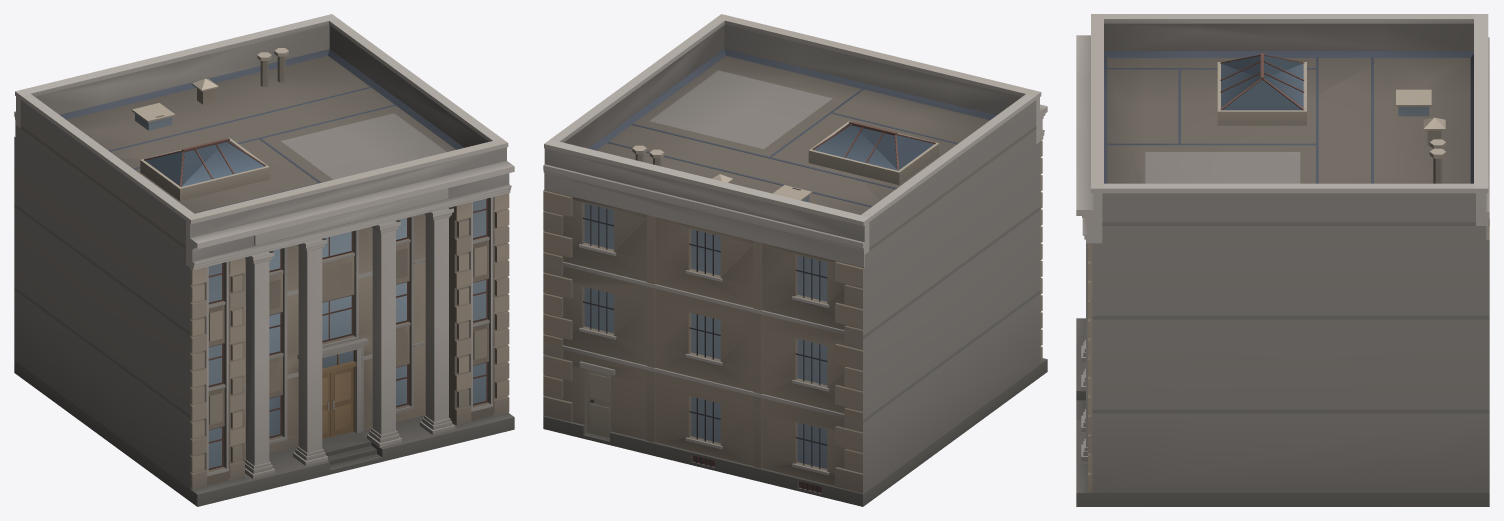
The model's file is bank.glb.
The picture shows the model from 3 angles, left to right: view 1: azimuth 30°, elevation 25°; view 2: azimuth 150°, elevation 25°; view 3: azimuth 270°, elevation 25°; orthographic projection. The views are drawn at different scales.
Parts seen in each view (by area): view 1: bank; view 2: bank; view 3: bank.
Part boxes in pixels (x1,y1,x2,y2): bank: [14, 14, 514, 506]; bank: [543, 14, 1047, 506]; bank: [1076, 14, 1489, 506].
Size of the model in its own units: 12 by 10.2 by 12.
